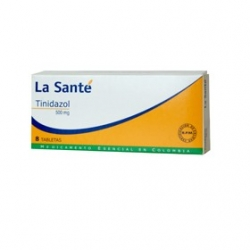LaSante: (31, 76, 203, 155)
